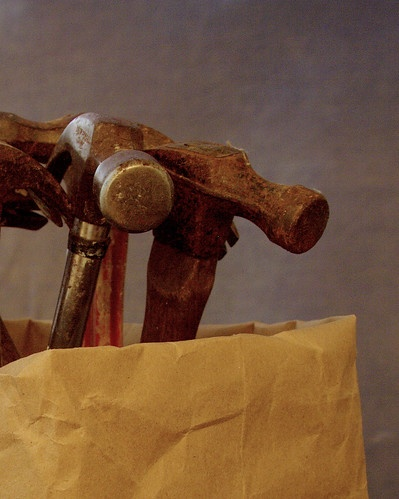hammer: (150, 137, 329, 338), (38, 111, 166, 345)
